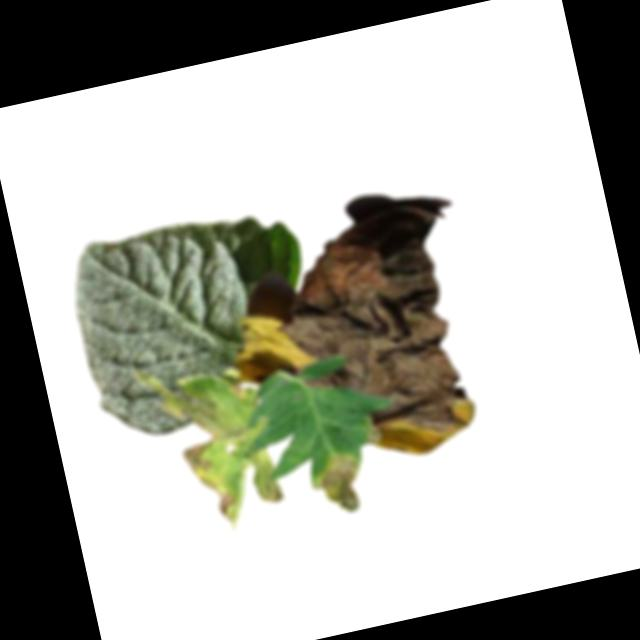Late_blight: (263, 220, 482, 479), (162, 370, 288, 533), (224, 306, 318, 397), (306, 446, 370, 518)
